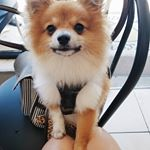puppy: (24, 1, 111, 142)
